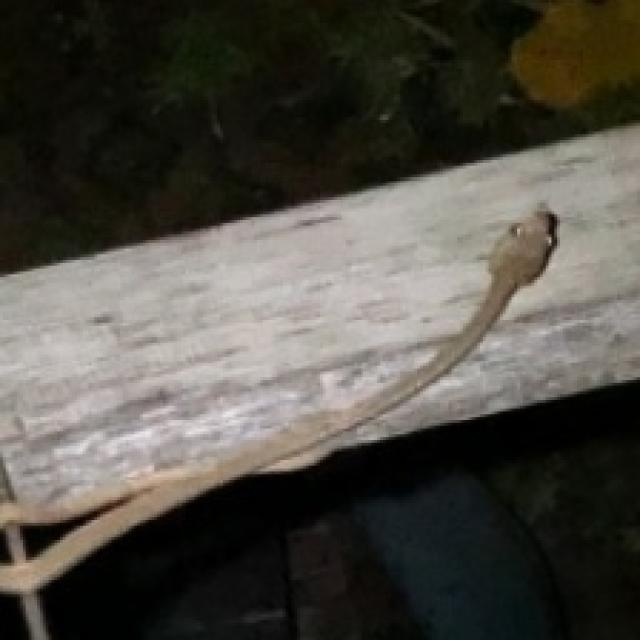philippine cat snake: (0, 206, 554, 637)
